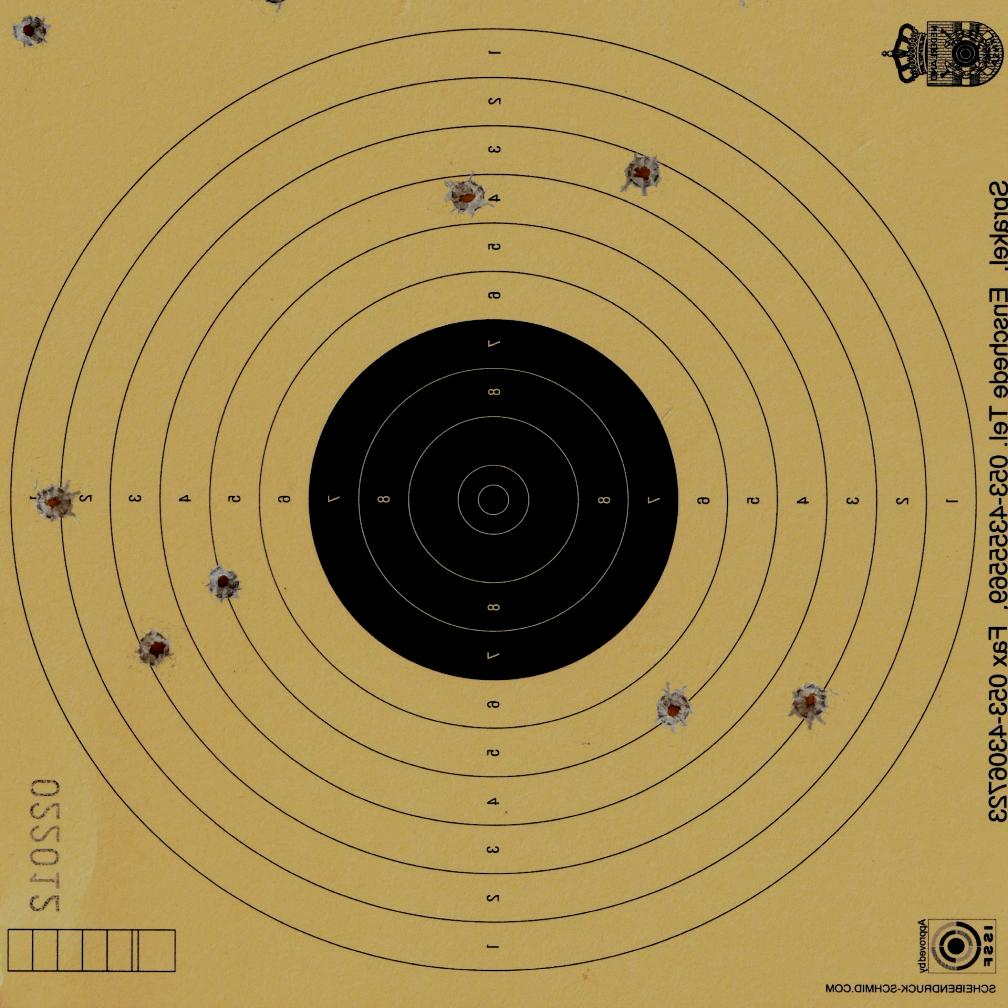0: (11, 14, 54, 49), (255, 0, 298, 15)
2: (34, 479, 74, 521)
3: (613, 150, 669, 194), (787, 683, 836, 728), (136, 630, 177, 672)
4: (446, 173, 490, 214)
5: (649, 688, 694, 732), (202, 564, 242, 603)
Target: (7, 26, 982, 976)
black_contour: (309, 319, 680, 681)
